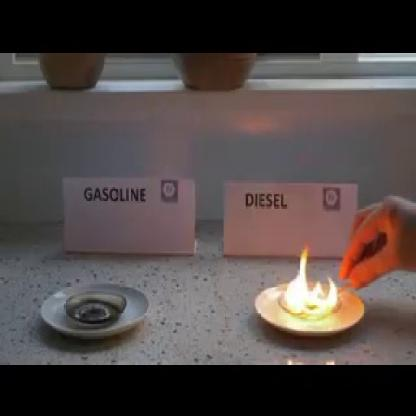fire: (282, 241, 340, 317)
